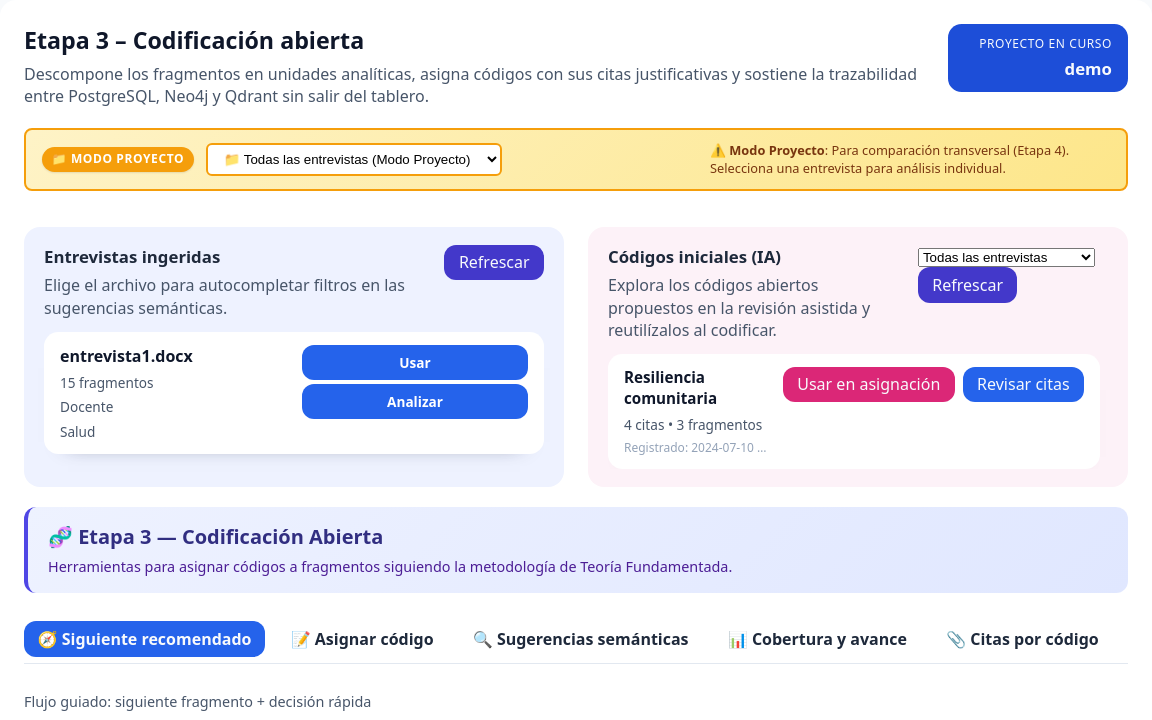
Test case: switches between tabs
Click the button "🔍 Sugerencias semánticas".
click(581, 639)  # box [459,621,702,658]
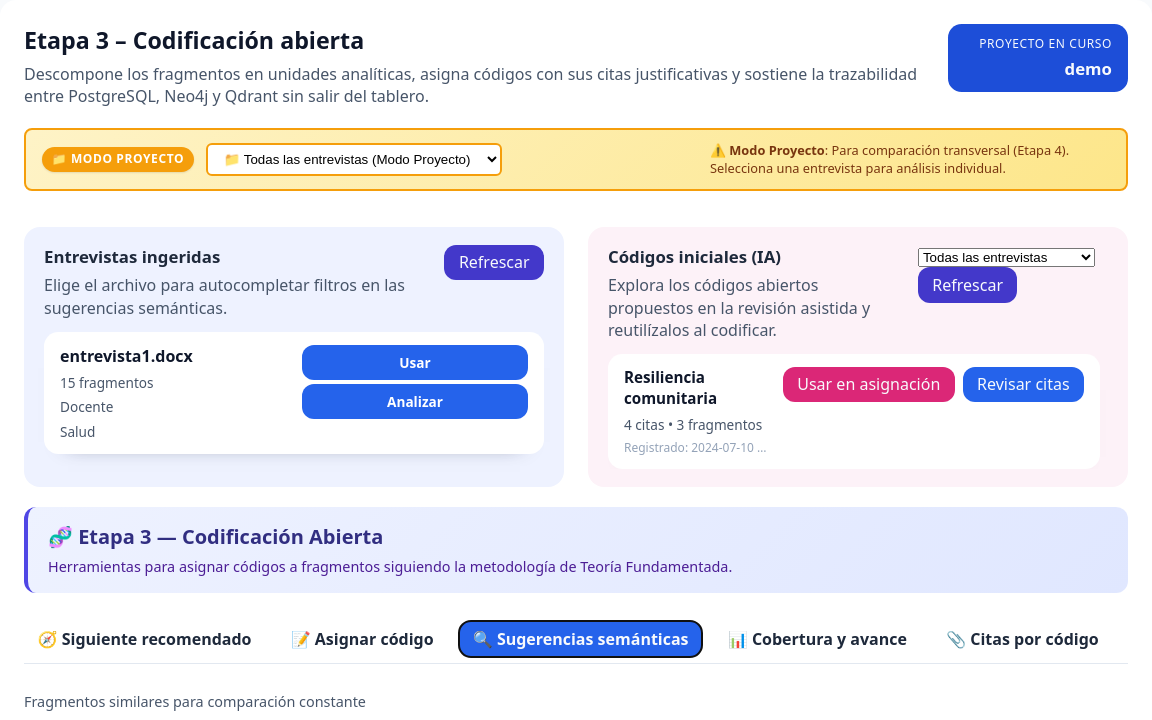
expect the text "Fragmentos similares para comparación constante" is shown: met, box [24,692,366,711]
